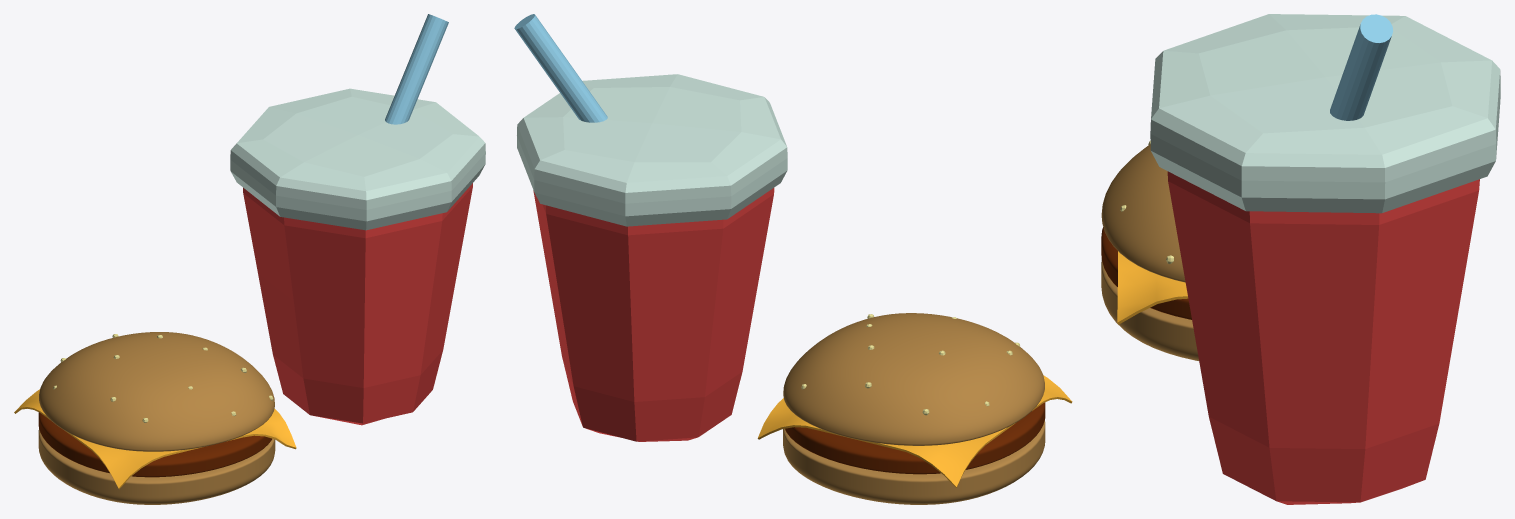
File: hamburgerWithDrink.glb
The picture shows the model from 3 angles, left to right: view 1: azimuth 30°, elevation 25°; view 2: azimuth 150°, elevation 25°; view 3: azimuth 270°, elevation 25°; orthographic projection. The views are drawn at different scales.
Parts seen in each view (by area): view 1: Bebida, TapaBebida, TopBread, BottomBread, Meat, Cheese, Cylinder; view 2: Bebida, TapaBebida, TopBread, BottomBread, Meat, Cheese, Cylinder; view 3: Bebida, TapaBebida, TopBread, Cylinder, BottomBread, Cheese, Meat.
Boxes of the visible parts, x1=… form: Bebida: x1=243, y1=183, x2=472, y2=425; TapaBebida: x1=230, y1=88, x2=485, y2=230; TopBread: x1=39, y1=332, x2=274, y2=451; BottomBread: x1=38, y1=428, x2=275, y2=504; Meat: x1=38, y1=412, x2=271, y2=477; Cheese: x1=14, y1=389, x2=296, y2=489; Cylinder: x1=385, y1=14, x2=448, y2=124; Bebida: x1=533, y1=188, x2=774, y2=441; TapaBebida: x1=517, y1=74, x2=787, y2=226; TopBread: x1=783, y1=313, x2=1044, y2=445; BottomBread: x1=783, y1=420, x2=1045, y2=504; Meat: x1=785, y1=402, x2=1045, y2=474; Cheese: x1=757, y1=375, x2=1072, y2=487; Cylinder: x1=514, y1=14, x2=607, y2=122; Bebida: x1=1167, y1=171, x2=1479, y2=504; TapaBebida: x1=1150, y1=14, x2=1500, y2=213; TopBread: x1=1101, y1=144, x2=1185, y2=282; Cylinder: x1=1330, y1=14, x2=1393, y2=120; BottomBread: x1=1101, y1=259, x2=1198, y2=360; Cheese: x1=1117, y1=251, x2=1188, y2=324; Meat: x1=1101, y1=227, x2=1191, y2=319.
Bounding box in the file's own units: 19.33 × 15.42 × 10.59.
